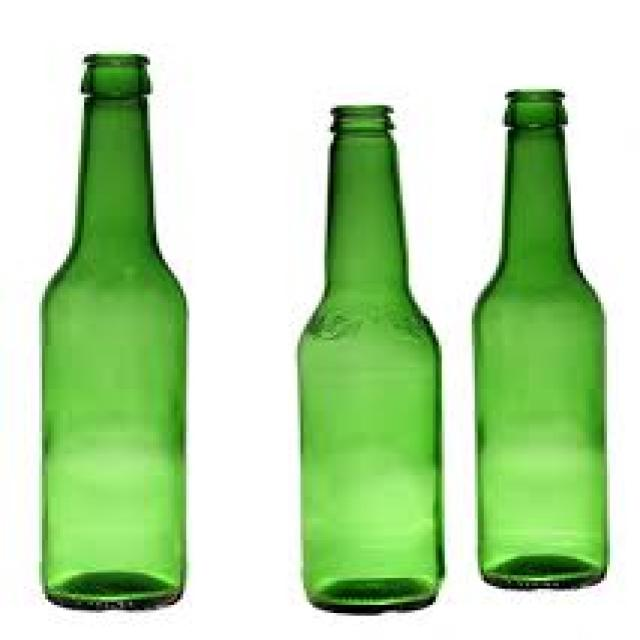glass: (36, 51, 183, 608), (292, 100, 442, 610), (472, 86, 607, 589)
